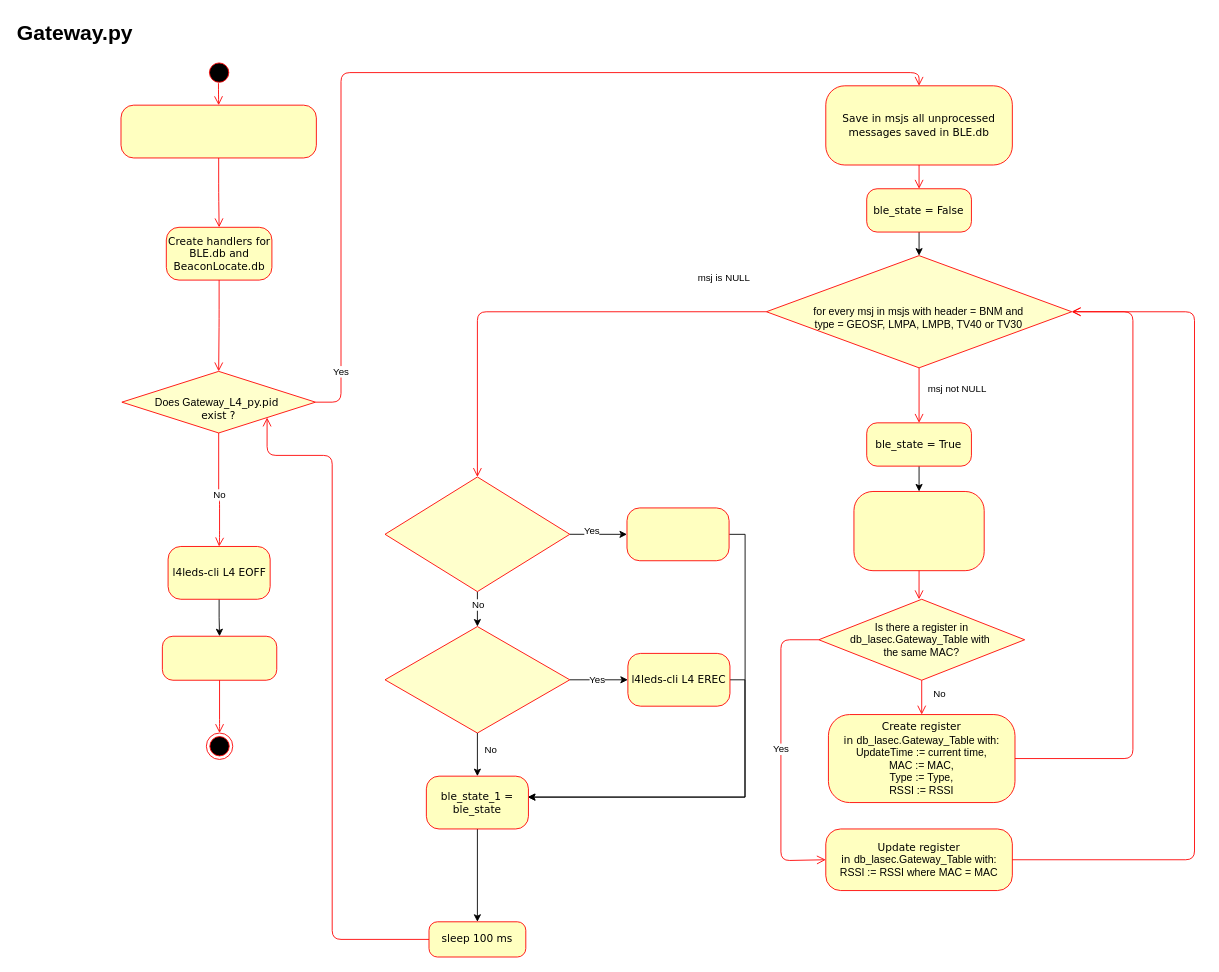
Some shapes in this 1219 by 972 pixel diagram are drawn without their labels. The shapes that lost their labels are listed below. From the top down, each one's box as (x1, y1, x2, y2) in pixels, then its label:
(120, 104, 316, 158): Create file Gateway_L4_py.pid
(384, 476, 570, 592): If ble_state_1 == 0 and ble_state ==1
(626, 507, 729, 561): l4leds-cli L4 EON
(853, 491, 984, 571): MAC := getMAC(msj) Type := getType(msj) RSSI := getRSSI(msj)
(161, 635, 277, 680): Close db's connections
(384, 626, 570, 733): If ble_state_1 == 1 and ble_state==0
